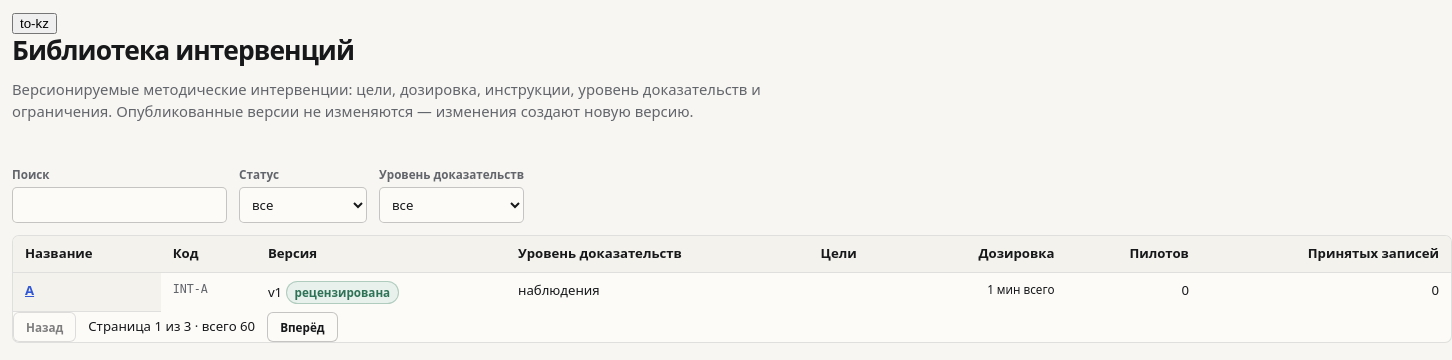
Test case: pager moves the offset and keeps it in the URL
Click the button "Вперёд" at (302,327), box x1=267 y1=312 x2=338 y2=342
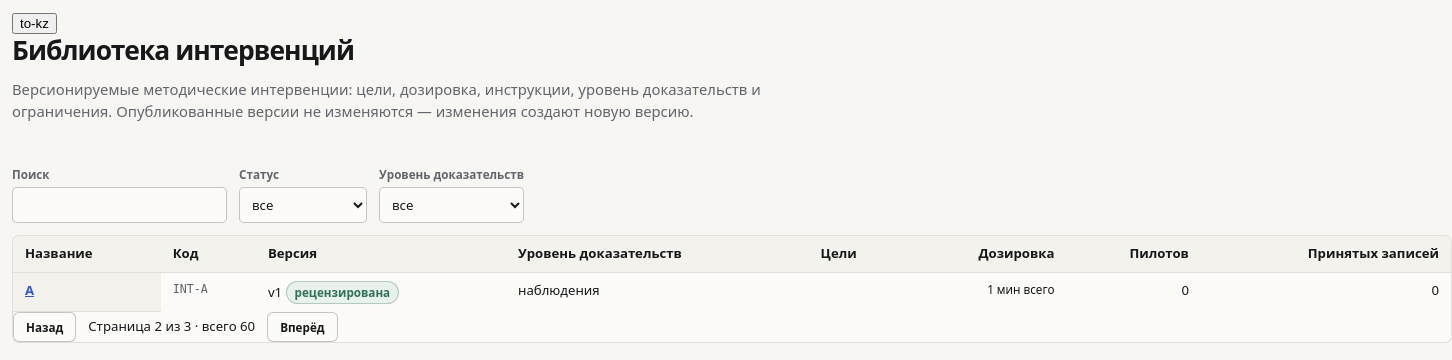
Now the text "Страница 2 из 3 · всего 60" is shown, box x1=88 y1=317 x2=255 y2=337
